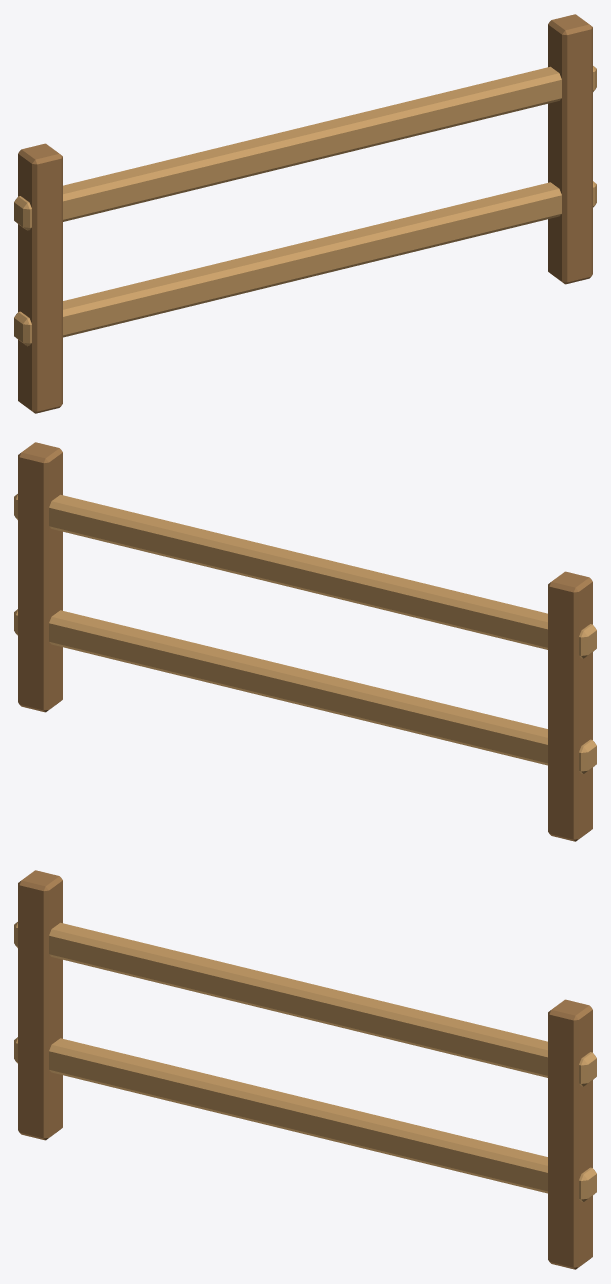
File: prop_fence_wood.glb
3 renders of one model, top to bottom at view 1: azimuth 30°, elevation 25°; view 2: azimuth 150°, elevation 25°; view 3: azimuth 330°, elevation 25°, orthographic.
Visible parts, largest first — view 1: prop_fence_wood; view 2: prop_fence_wood; view 3: prop_fence_wood.
Boxes of the visible parts, x1,y1,x2,y2 form: prop_fence_wood: (14, 14, 596, 413); prop_fence_wood: (14, 442, 596, 841); prop_fence_wood: (14, 870, 596, 1269).
Bounding box in the file's own units: 2.6 × 1.1 × 0.14.
